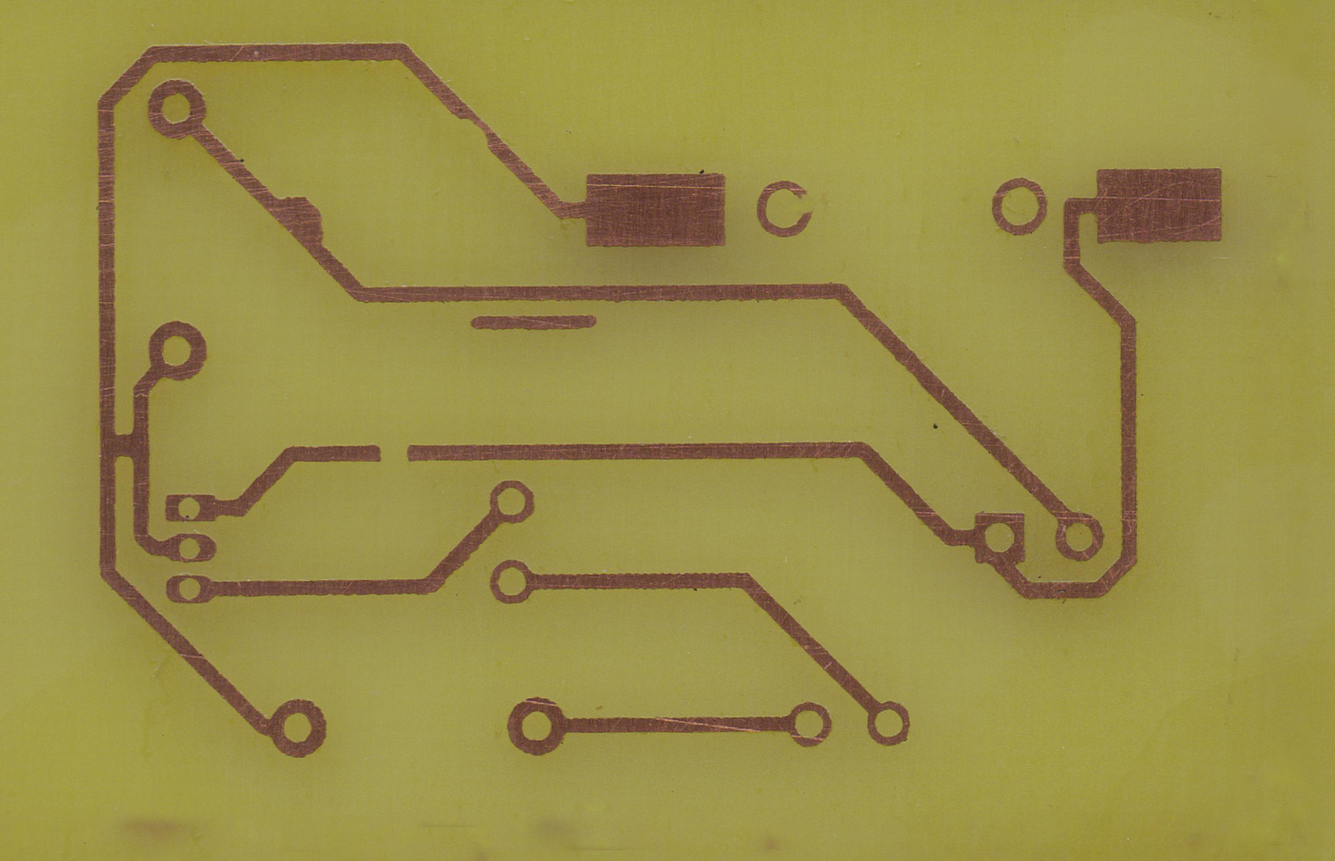missing_hole: (755, 176, 813, 240)
mouse_bite: (449, 103, 505, 164)
open_circuit: (367, 436, 421, 470)
short: (95, 428, 153, 465)
spur: (268, 189, 331, 252)
spurious_copper: (466, 310, 605, 335)
